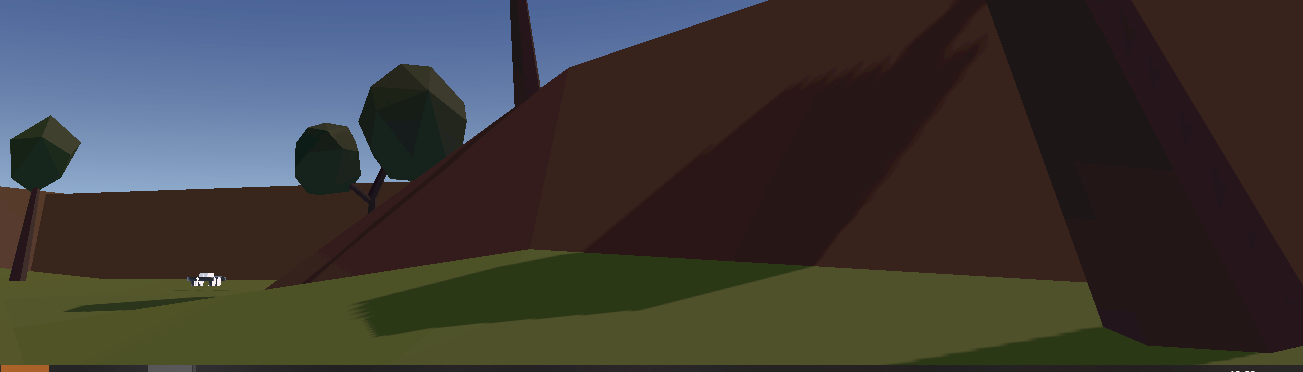tree: (975, 5, 1303, 351), (293, 64, 472, 215), (1, 116, 83, 281), (501, 3, 547, 96)
